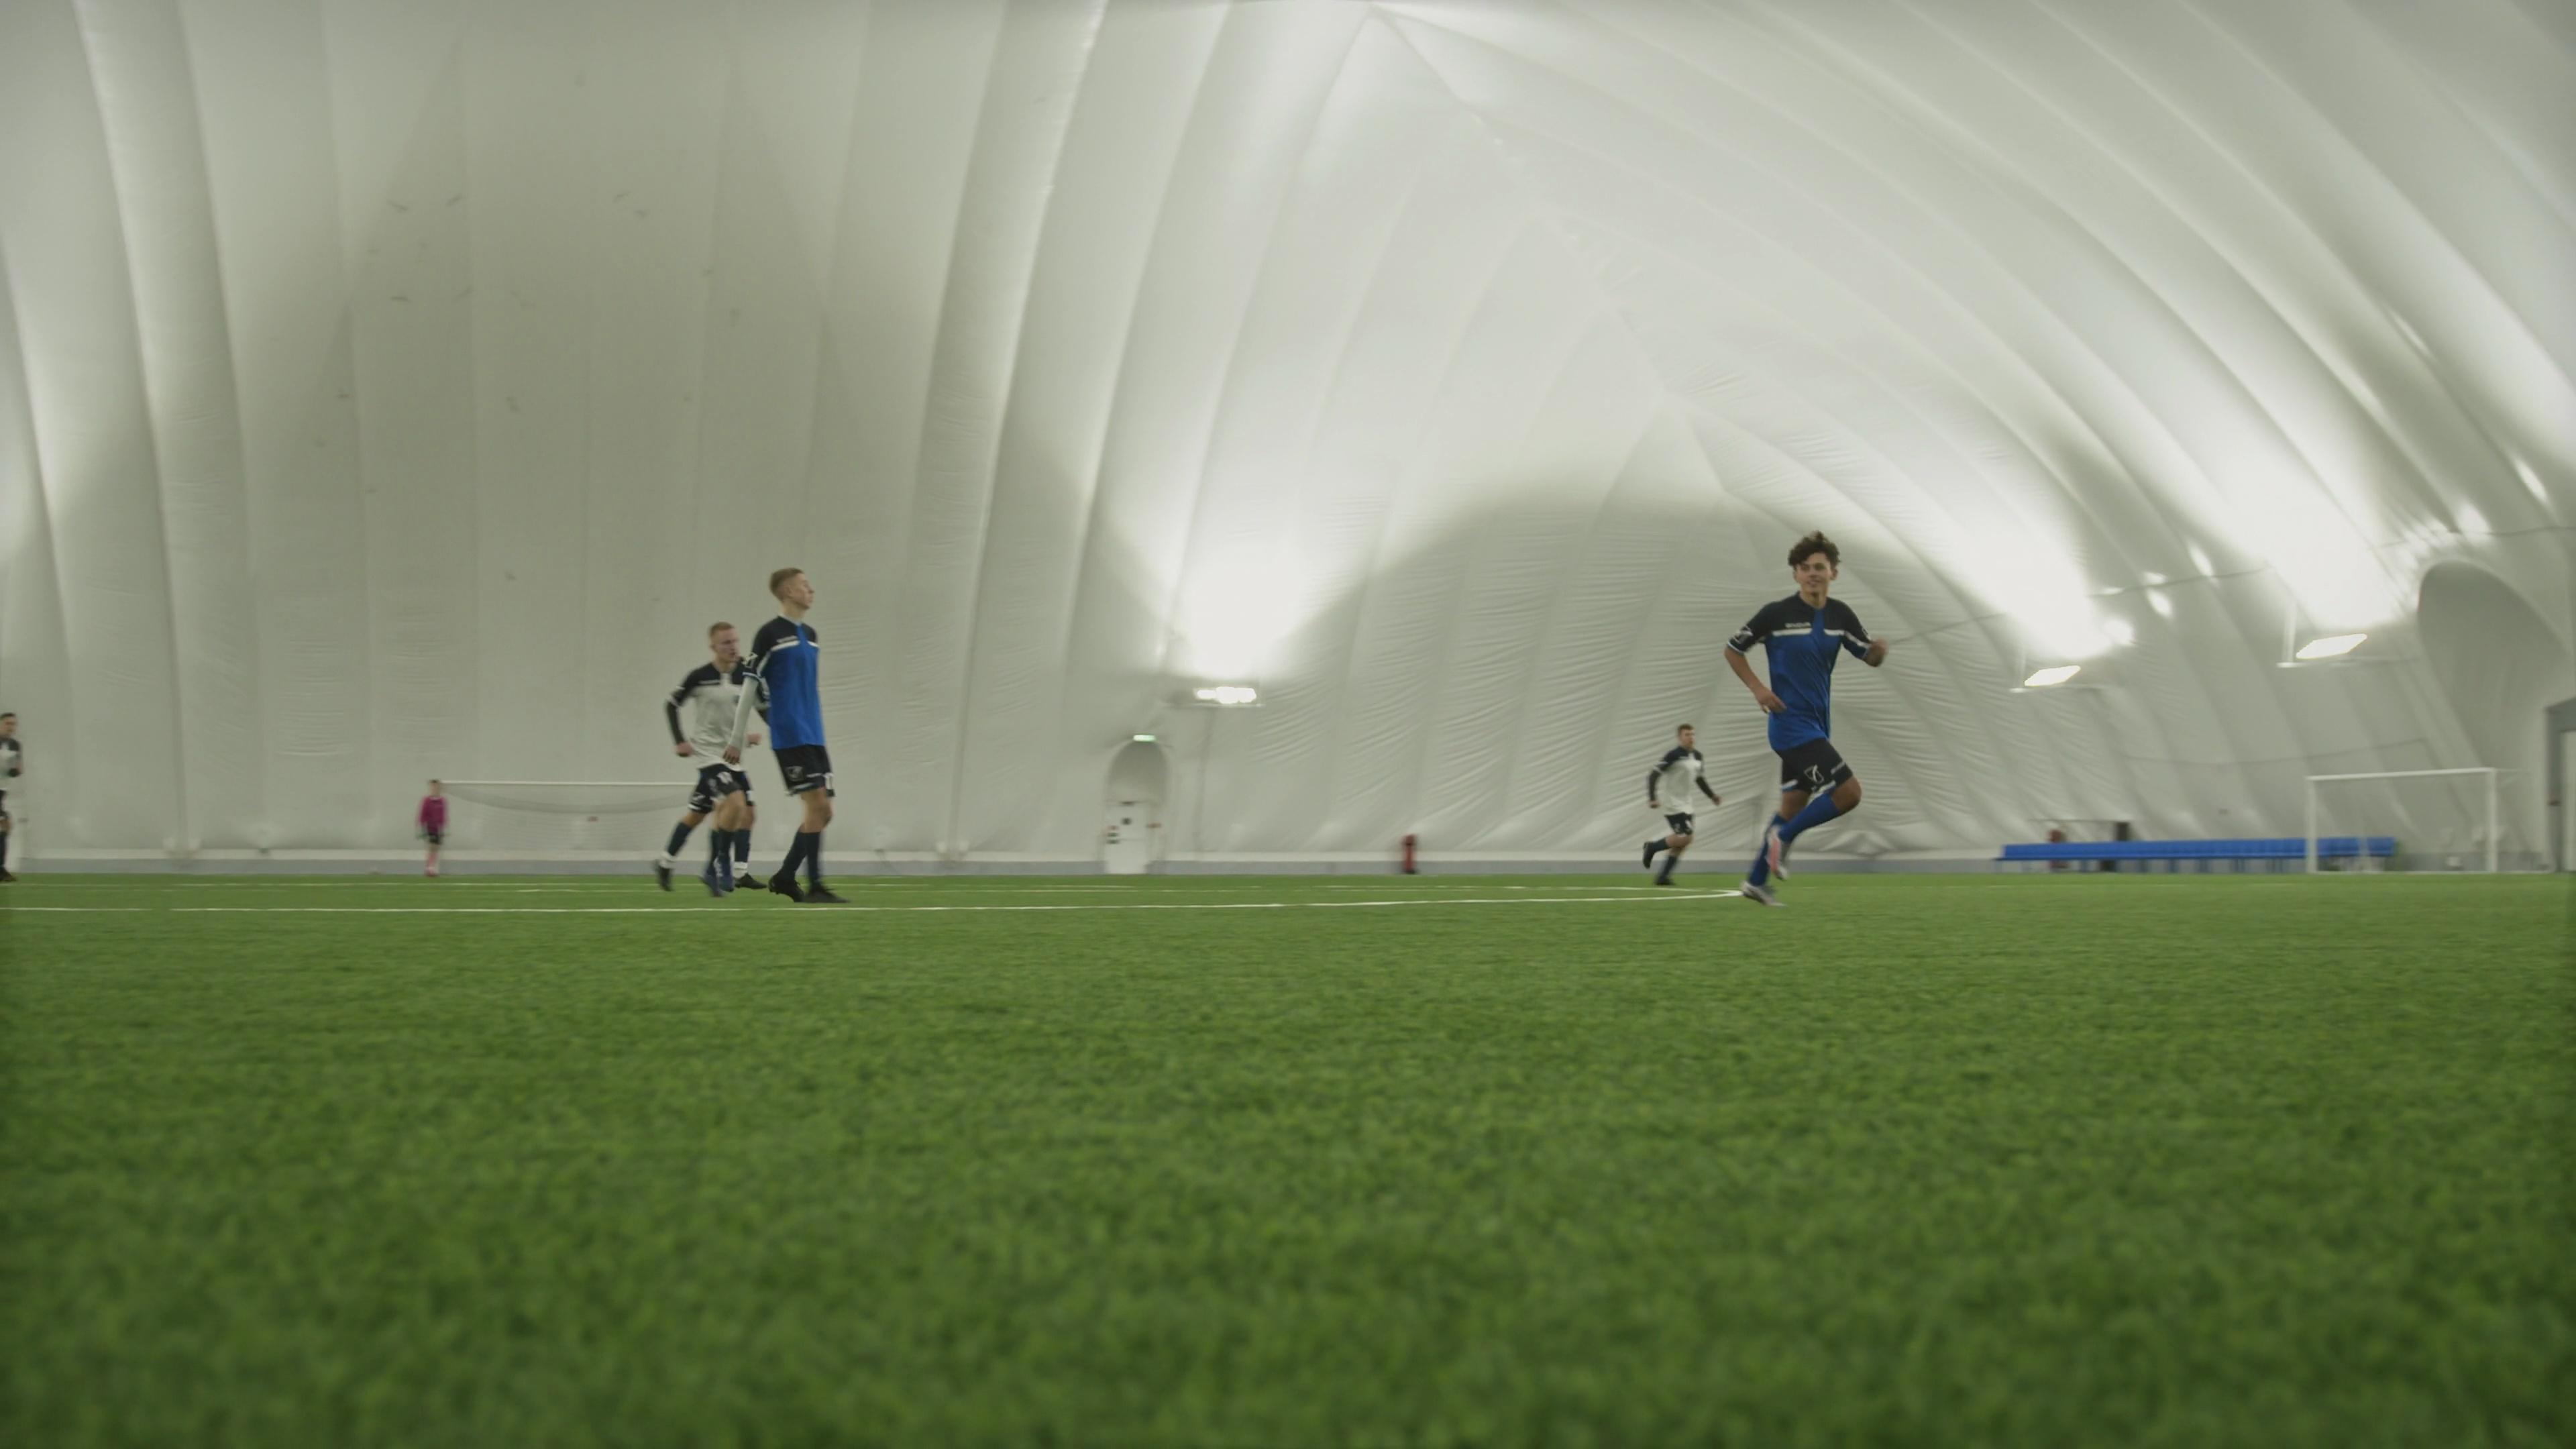team1: (1721, 534, 1890, 908), (745, 566, 846, 904)
team1gk: (414, 780, 449, 878)
team2: (655, 621, 766, 897), (1642, 722, 1725, 886), (0, 697, 28, 888)
